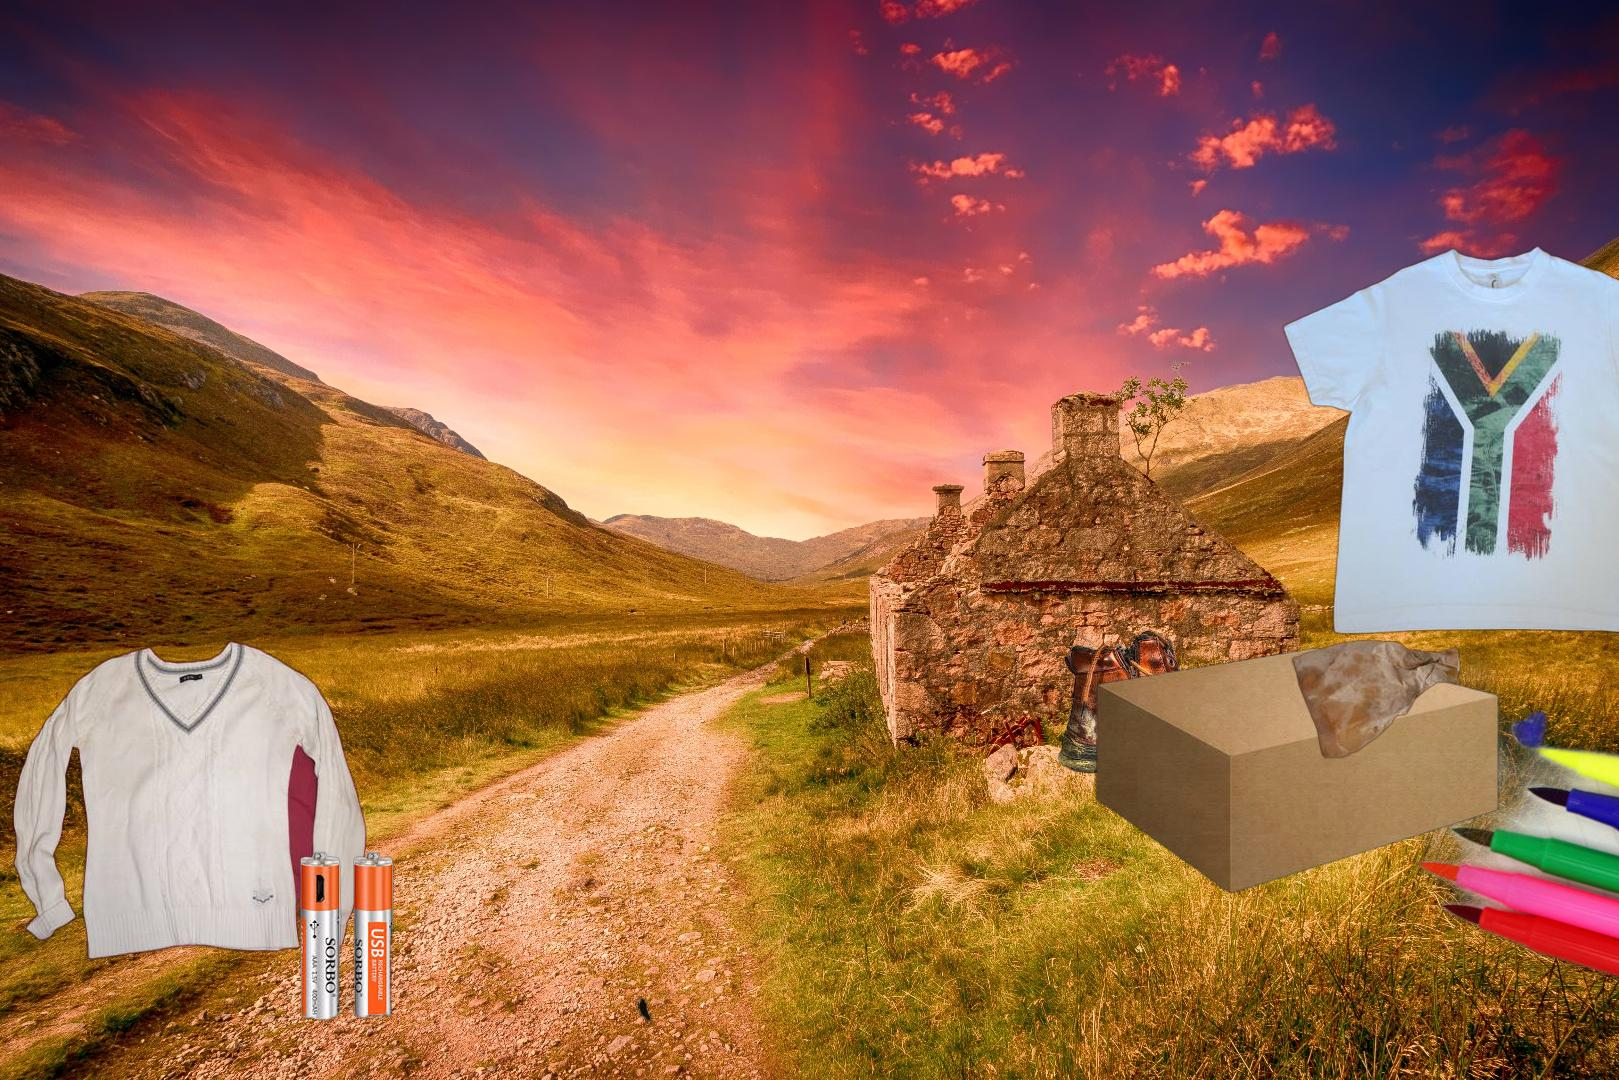battery: (297, 846, 397, 1025)
clothes: (1278, 243, 1619, 636), (8, 636, 370, 964)
paper-bag: (1290, 636, 1463, 761)
penholder: (1055, 648, 1619, 1080)
shoes: (1055, 623, 1300, 777)
trashbox-cardboard: (325, 755, 838, 1040), (1091, 644, 1504, 896)
